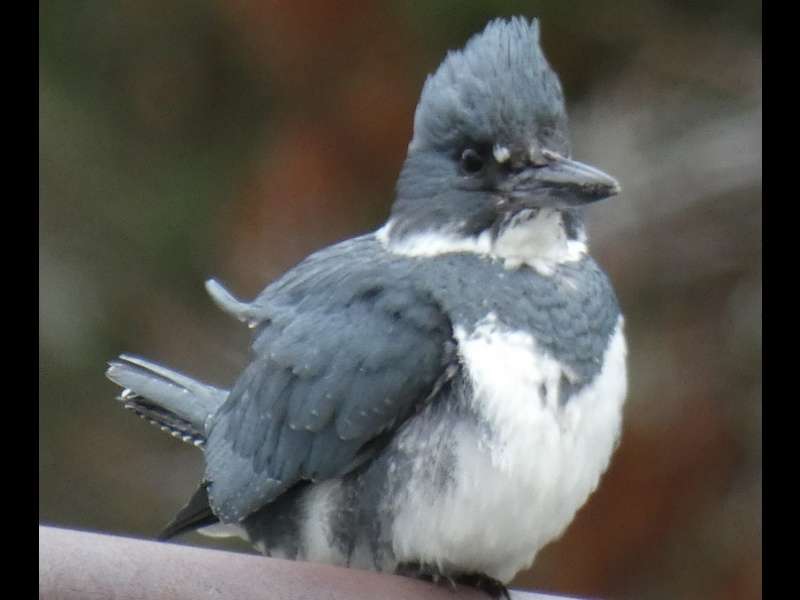kingfisher: (102, 16, 633, 593)
